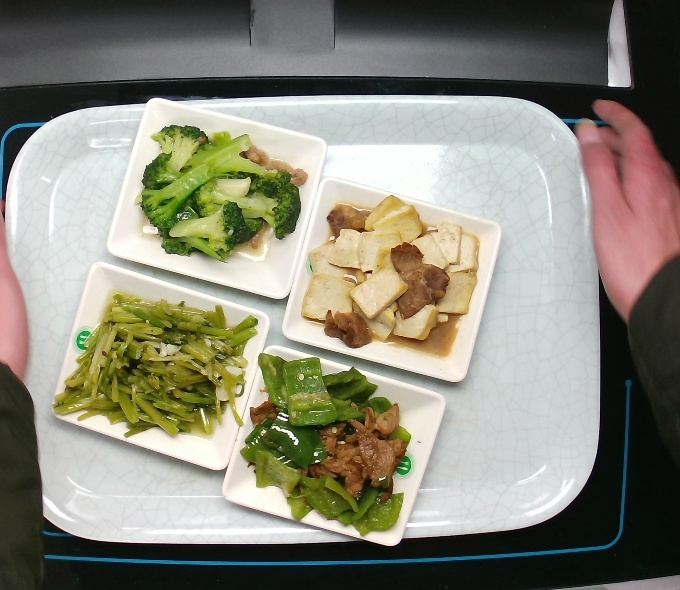wcq-DouFuRouPian: (295, 193, 492, 364)
wcq-QinCai: (45, 285, 269, 450)
wcq-QingJiaoChaoRou: (238, 342, 411, 533)
wcq-XiLanHua: (130, 119, 304, 265)
